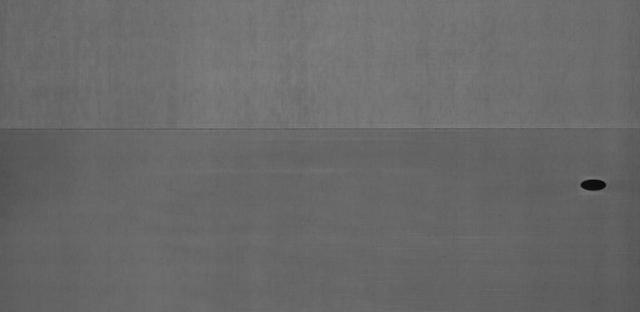punching_hole: (574, 176, 610, 194)
welding_line: (3, 119, 637, 139)
